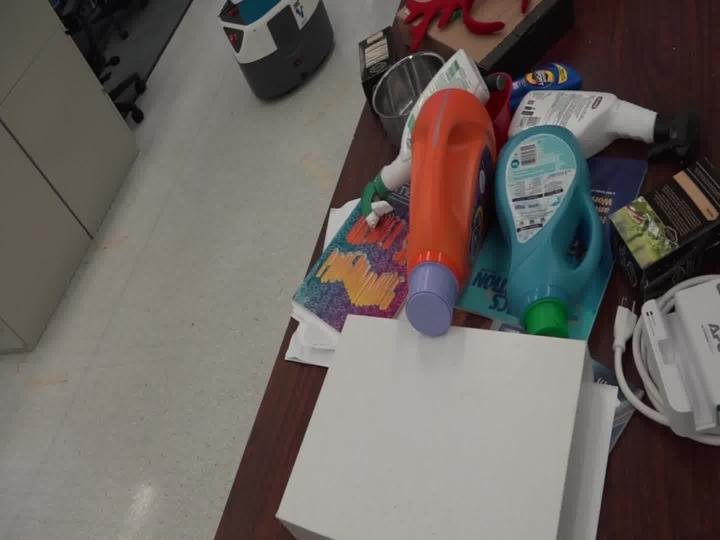downy: (484, 111, 624, 337)
